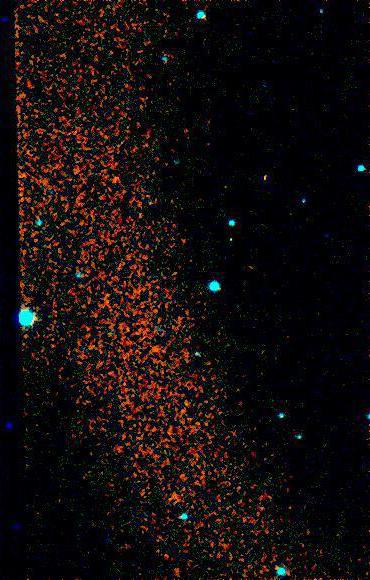star: (141, 333, 171, 363)
